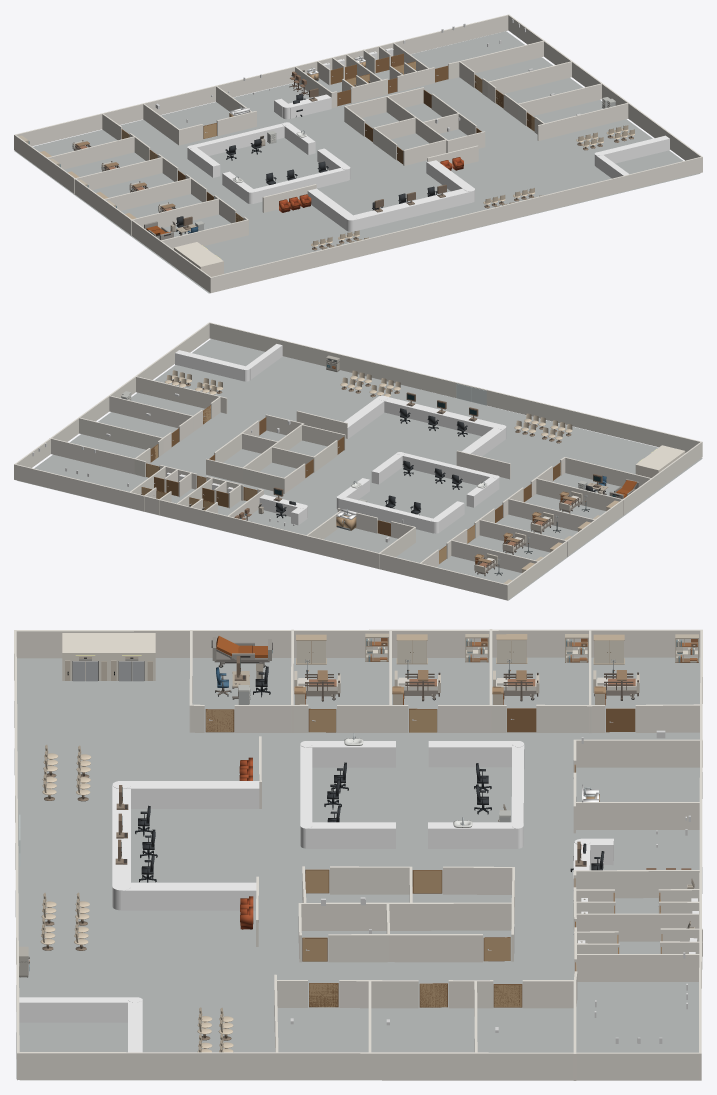
Rendered from hospital_L1_environment.glb.
The picture shows the model from 3 angles, top to bottom: view 1: azimuth 30°, elevation 25°; view 2: azimuth 150°, elevation 25°; view 3: azimuth 270°, elevation 25°; orthographic projection. The views are drawn at different scales.
Visible parts, largest first — view 1: hospital_L1__wall_1__wall_1, Hospital_Floor, Reception_Front_Body, Reception_Front_Body.001, hospital_L1__wall_2__wall_2, Reception_Front_Body.002, Reception_Left_Body.005, Reception_Left_Body, Reception_Right_Body, Reception_Front_Body.003, BEAUTY_Elevator_02_Body, Reception_Right_Body.002 (+2 smaller); view 2: hospital_L1__wall_1__wall_1, Hospital_Floor, Reception_Front_Body, hospital_L1__wall_2__wall_2, Reception_Front_Body.002, Reception_Front_Body.001, Reception_Left_Body.005, Reception_Right_Body, Reception_Left_Body, Reception_Front_Body.005, BEAUTY_Elevator_01_Body, Reception_Right_Body.001 (+3 smaller); view 3: Hospital_Floor, hospital_L1__wall_1__wall_1, Reception_Right_Body, Reception_Left_Body, Reception_Front_Body.005, Reception_Right_Body.001, Reception_Left_Body.002, Reception_Right_Body.002, Reception_Left_Body.001, BEAUTY_Elevator_01_Body, BEAUTY_Elevator_02_Body, Reception_Front_Body (+6 smaller).
Boxes of the visible parts, bbox=[...] form: hospital_L1__wall_1__wall_1: bbox=[14, 14, 702, 293]; Hospital_Floor: bbox=[14, 31, 700, 293]; Reception_Front_Body: bbox=[354, 188, 472, 231]; Reception_Front_Body.001: bbox=[253, 168, 348, 203]; hospital_L1__wall_2__wall_2: bbox=[262, 145, 478, 212]; Reception_Front_Body.002: bbox=[193, 123, 284, 155]; Reception_Left_Body.005: bbox=[598, 135, 669, 163]; Reception_Left_Body: bbox=[307, 188, 354, 230]; Reception_Right_Body: bbox=[426, 160, 472, 191]; Reception_Front_Body.003: bbox=[288, 94, 331, 118]; BEAUTY_Elevator_02_Body: bbox=[187, 251, 223, 276]; Reception_Right_Body.002: bbox=[187, 146, 220, 177]; hospital_L1__wall_1__wall_1: bbox=[14, 322, 702, 600]; Hospital_Floor: bbox=[17, 339, 702, 600]; Reception_Front_Body: bbox=[384, 396, 500, 436]; hospital_L1__wall_2__wall_2: bbox=[296, 410, 510, 479]; Reception_Front_Body.002: bbox=[339, 497, 433, 533]; Reception_Front_Body.001: bbox=[402, 453, 493, 485]; Reception_Left_Body.005: bbox=[175, 350, 246, 381]; Reception_Right_Body: bbox=[344, 398, 385, 438]; Reception_Left_Body: bbox=[461, 426, 505, 456]; Reception_Front_Body.005: bbox=[246, 344, 282, 379]; BEAUTY_Elevator_01_Body: bbox=[635, 455, 672, 477]; Reception_Right_Body.001: bbox=[371, 453, 404, 484]; Hospital_Floor: bbox=[16, 657, 700, 1079]; hospital_L1__wall_1__wall_1: bbox=[14, 629, 702, 1080]; Reception_Right_Body: bbox=[121, 882, 256, 910]; Reception_Left_Body: bbox=[123, 781, 259, 808]; Reception_Front_Body.005: bbox=[19, 997, 131, 1022]; Reception_Right_Body.001: bbox=[306, 822, 395, 848]; Reception_Left_Body.002: bbox=[428, 822, 517, 848]; Reception_Right_Body.002: bbox=[428, 741, 516, 767]; Reception_Left_Body.001: bbox=[306, 741, 395, 767]; BEAUTY_Elevator_01_Body: bbox=[108, 633, 155, 680]; BEAUTY_Elevator_02_Body: bbox=[62, 633, 109, 680]; Reception_Front_Body: bbox=[112, 785, 130, 885].
Bounding box in the file's own units: 37.98 × 1.69 × 26.04.
113 materials, 1 textured.
